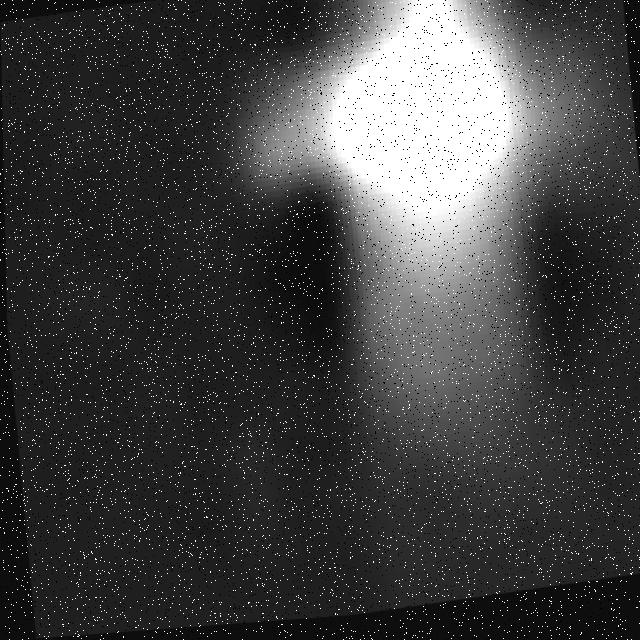person: (227, 1, 640, 472)
